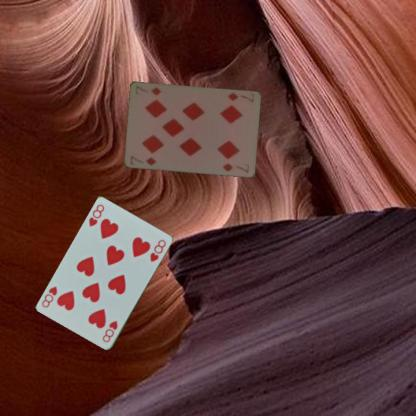7d: (226, 90, 256, 104), (128, 153, 157, 167)
8h: (86, 202, 106, 228), (100, 318, 119, 344)
